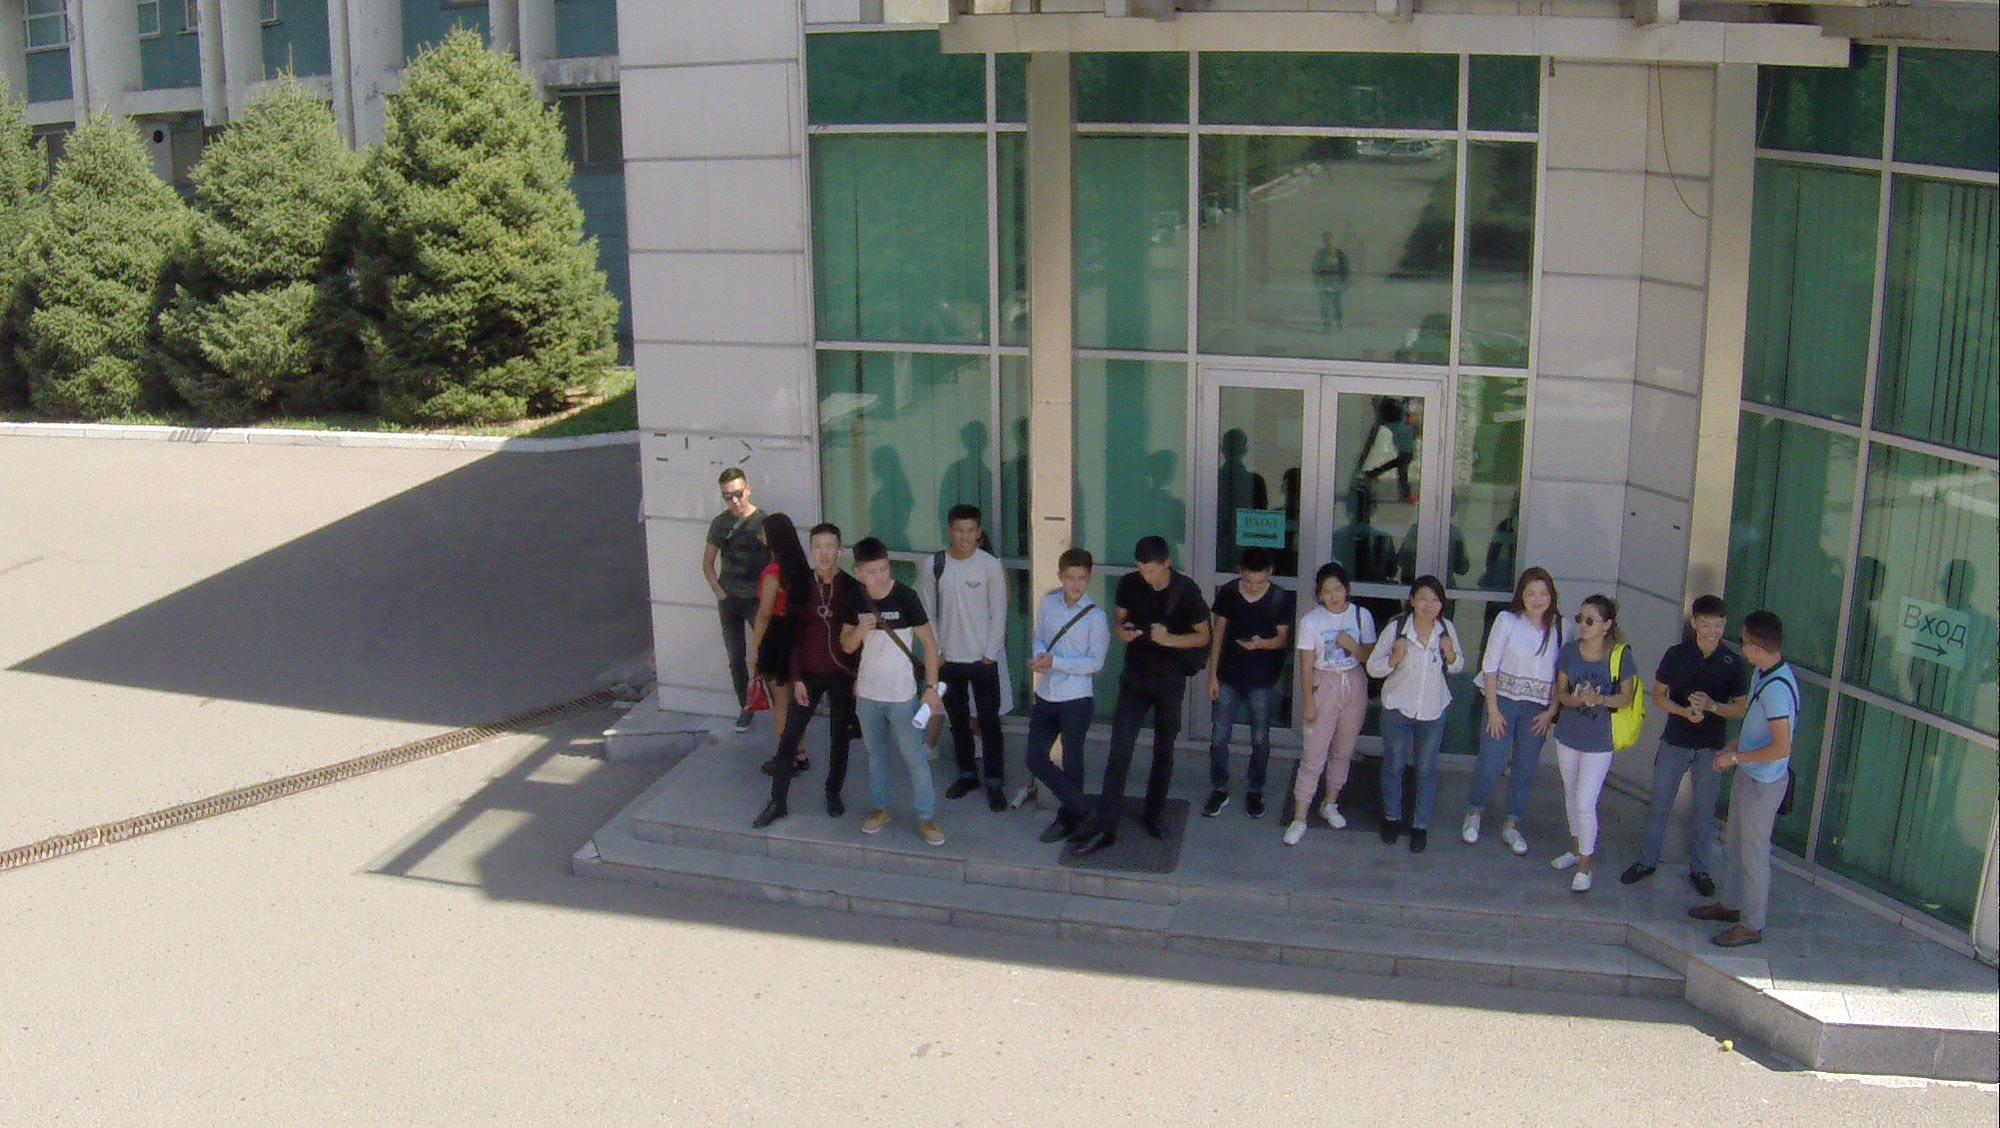person: (1690, 588, 1819, 955), (1073, 529, 1214, 862), (1620, 575, 1744, 895), (1002, 544, 1126, 856), (834, 537, 951, 866), (1443, 551, 1566, 864), (749, 519, 860, 842), (1531, 583, 1640, 911), (1266, 554, 1384, 853), (923, 500, 1022, 827), (1354, 562, 1462, 862), (1204, 541, 1287, 824), (684, 462, 762, 739), (754, 506, 808, 781)
